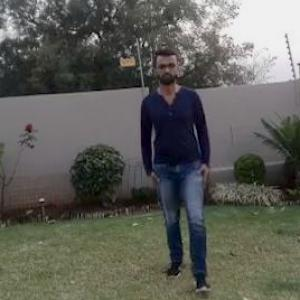follow: (150, 54, 210, 276)
